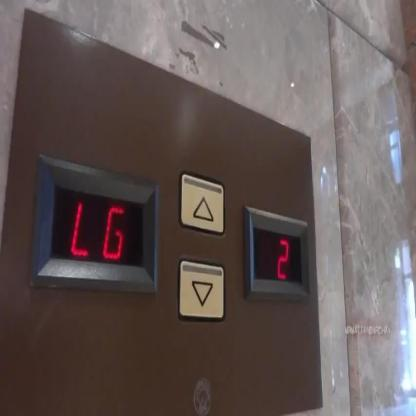down: (176, 253, 227, 322)
keyhole: (192, 371, 214, 415)
led: (46, 180, 148, 274), (251, 221, 304, 284)
up: (178, 166, 227, 238)
